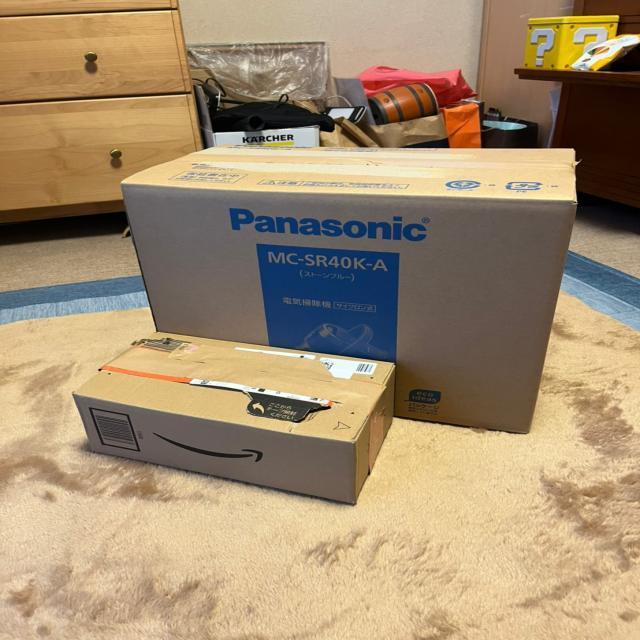-: (112, 137, 583, 437), (67, 326, 411, 512)
